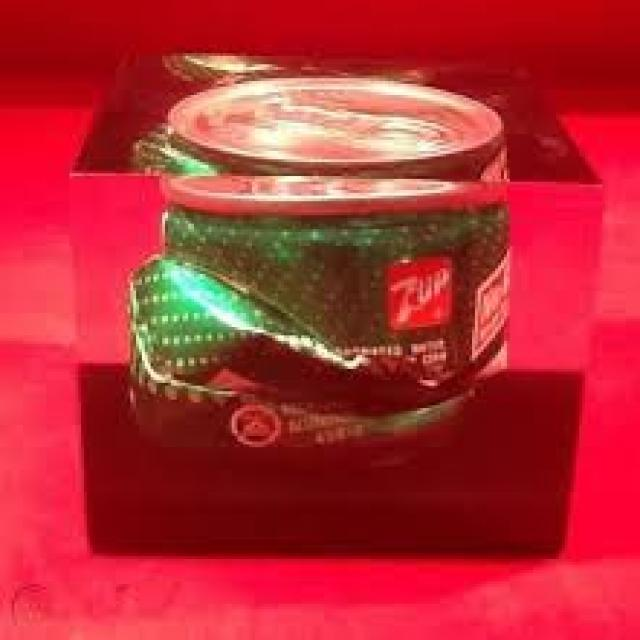recyclable: (124, 78, 510, 450)
